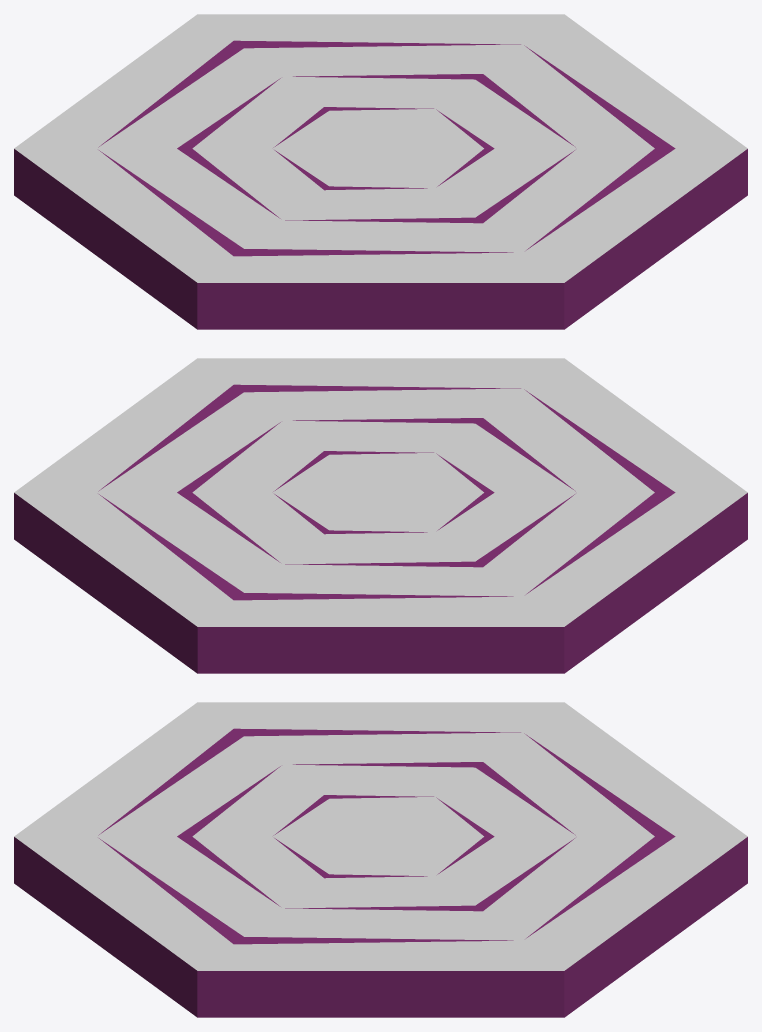
File: Onion.fbx
The picture shows the model from 3 angles, top to bottom: view 1: azimuth 30°, elevation 25°; view 2: azimuth 150°, elevation 25°; view 3: azimuth 270°, elevation 25°; orthographic projection.
Visible parts, largest first — view 1: Cylinder.001; view 2: Cylinder.001; view 3: Cylinder.001.
Part boxes in pixels (left/top/right/bottom): Cylinder.001: left=14, top=14, right=747, bottom=329; Cylinder.001: left=14, top=358, right=747, bottom=673; Cylinder.001: left=14, top=702, right=747, bottom=1017.
Size of the model in its own units: 12.3 by 1 by 14.2.
